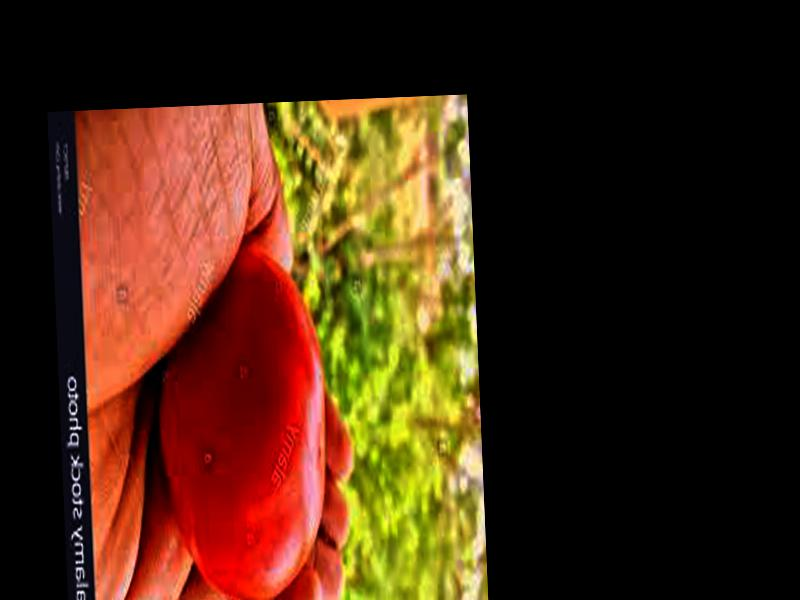Tomato: (153, 252, 331, 600)
